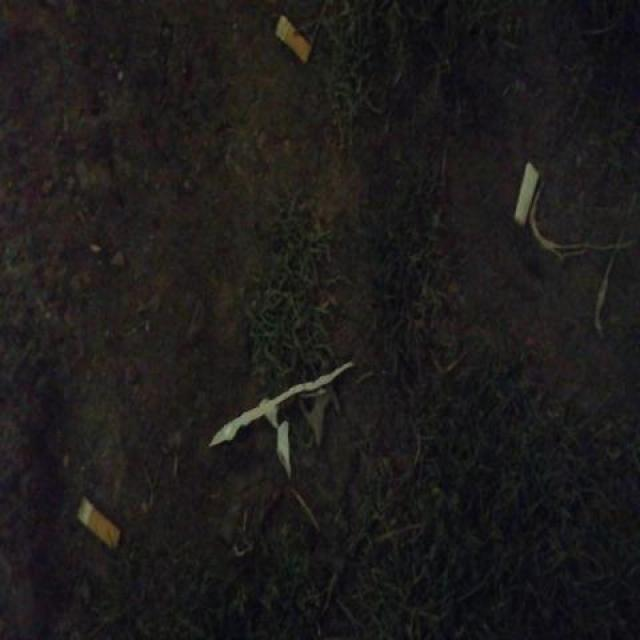non-organic waste: (72, 494, 125, 554), (272, 10, 315, 69), (510, 157, 543, 230)
